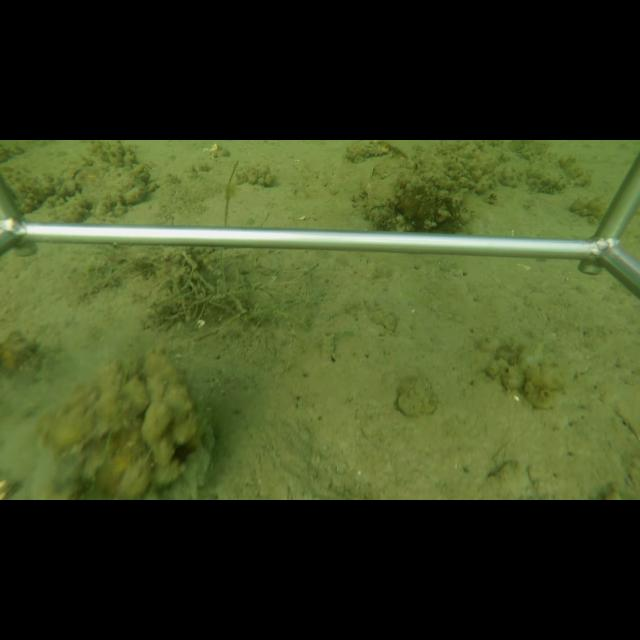Oyster-Closed: (394, 377, 438, 418)
